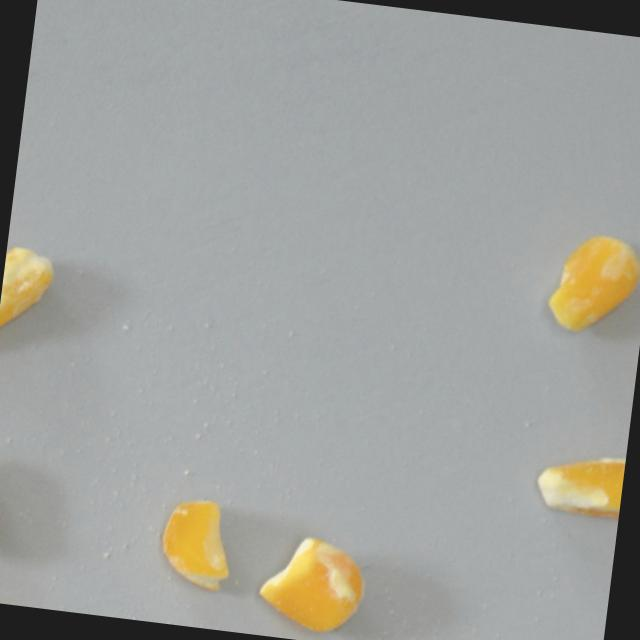pelicula: (255, 526, 371, 640), (549, 414, 630, 548), (550, 222, 639, 341), (155, 484, 241, 592), (0, 230, 36, 365), (0, 443, 15, 554), (0, 582, 41, 608)
